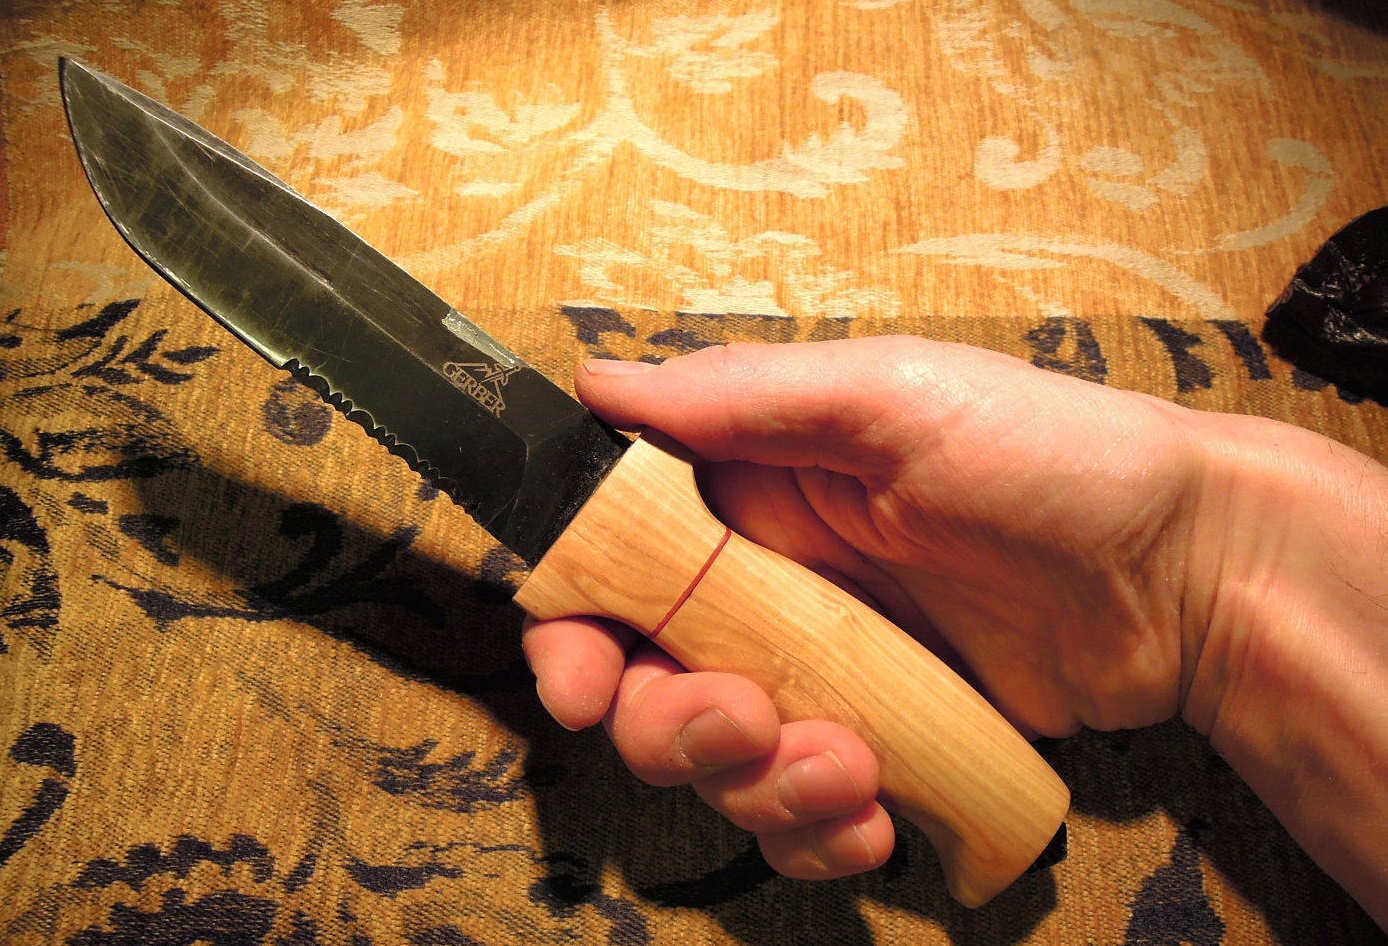knife: (44, 35, 1090, 931)
